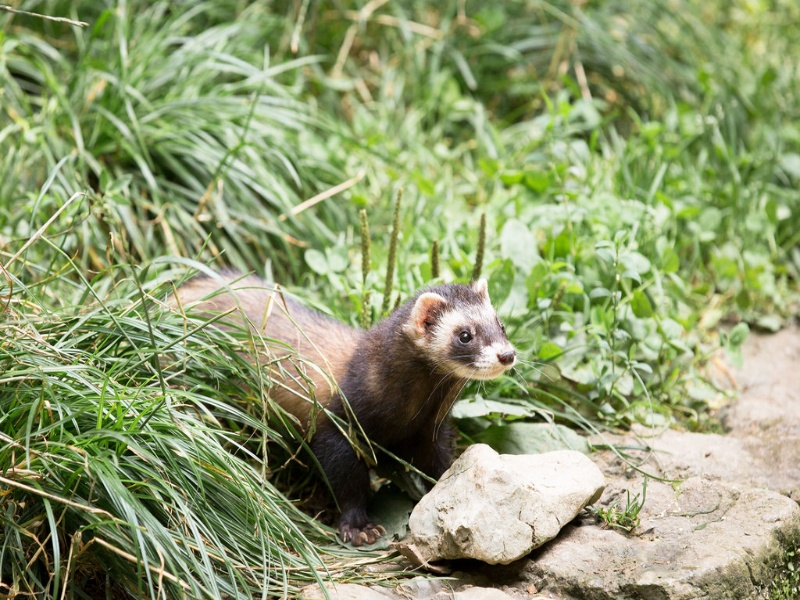minkish: (148, 248, 526, 544)
